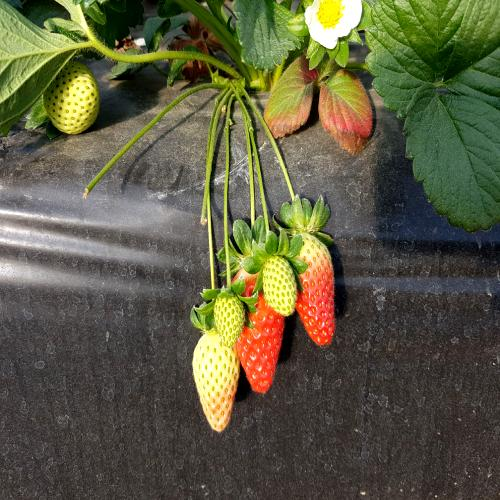partially-ripe: (284, 223, 345, 353)
ripe: (232, 272, 285, 396)
